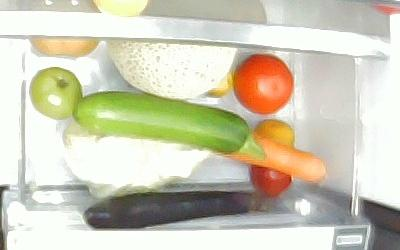cabbage: (61, 120, 213, 196)
carrot: (219, 126, 327, 180)
eggplant: (83, 191, 268, 229)
melon: (104, 39, 237, 98)
pear: (29, 38, 101, 59)
prune: (249, 165, 293, 196)
tangerine: (252, 120, 294, 150), (205, 71, 235, 98)
tomato: (234, 54, 292, 116), (30, 66, 84, 120)
zucchini: (73, 92, 267, 161)
